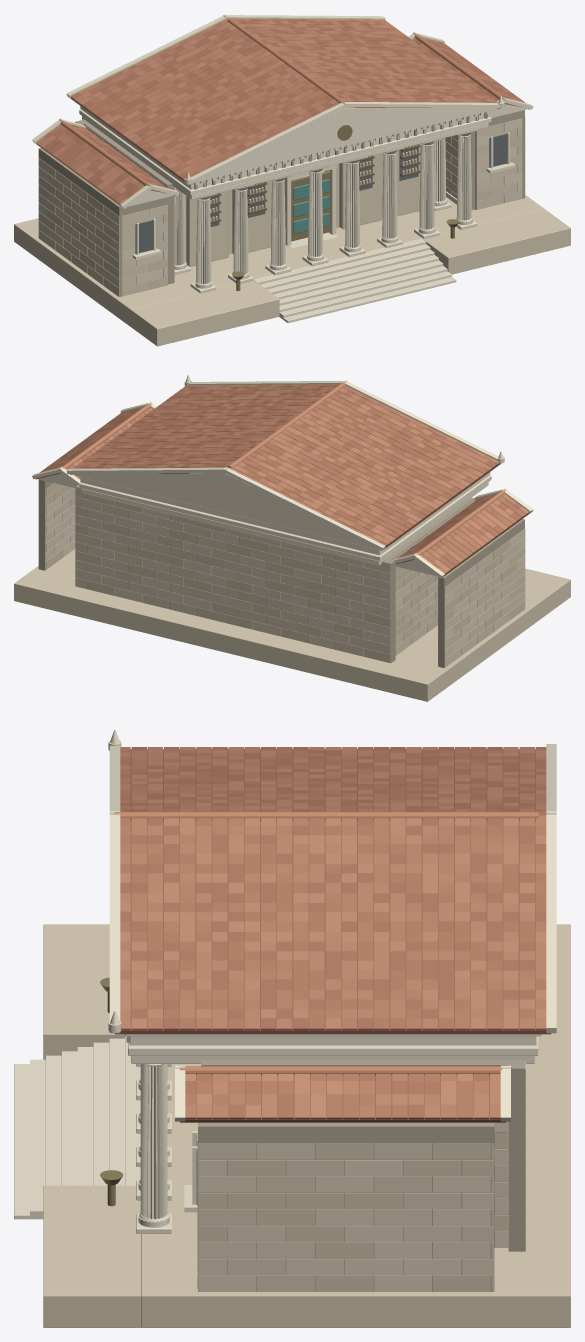
Rendered from library.glb.
3 views of the same model, one above another, from view 1: azimuth 30°, elevation 25°; view 2: azimuth 150°, elevation 25°; view 3: azimuth 270°, elevation 25° (orthographic). The views are drawn at different scales.
Parts seen in each view (by area): view 1: AlexandrianScholarlyComplex_Interpretation / cream marble, AlexandrianScholarlyComplex_Interpretation / warm limestone, AlexandrianScholarlyComplex_Interpretation / roof tile 1, AlexandrianScholarlyComplex_Interpretation / roof tile 0, AlexandrianScholarlyComplex_Interpretation / roof tile 3, AlexandrianScholarlyComplex_Interpretation / roof tile 2, AlexandrianScholarlyComplex_Interpretation / roof tile 4, AlexandrianScholarlyComplex_Interpretation / stone shadow, AlexandrianScholarlyComplex_Interpretation / masonry 2, AlexandrianScholarlyComplex_Interpretation / masonry 1, AlexandrianScholarlyComplex_Interpretation / masonry 3, AlexandrianScholarlyComplex_Interpretation / masonry 0 (+8 smaller); view 2: AlexandrianScholarlyComplex_Interpretation / warm limestone, AlexandrianScholarlyComplex_Interpretation / cream marble, AlexandrianScholarlyComplex_Interpretation / masonry 2, AlexandrianScholarlyComplex_Interpretation / masonry 0, AlexandrianScholarlyComplex_Interpretation / masonry 3, AlexandrianScholarlyComplex_Interpretation / roof tile 1, AlexandrianScholarlyComplex_Interpretation / roof tile 0, AlexandrianScholarlyComplex_Interpretation / roof tile 3, AlexandrianScholarlyComplex_Interpretation / roof tile 2, AlexandrianScholarlyComplex_Interpretation / roof tile 4, AlexandrianScholarlyComplex_Interpretation / masonry 1, AlexandrianScholarlyComplex_Interpretation / stone shadow (+2 smaller); view 3: AlexandrianScholarlyComplex_Interpretation / warm limestone, AlexandrianScholarlyComplex_Interpretation / cream marble, AlexandrianScholarlyComplex_Interpretation / roof tile 3, AlexandrianScholarlyComplex_Interpretation / roof tile 1, AlexandrianScholarlyComplex_Interpretation / roof tile 0, AlexandrianScholarlyComplex_Interpretation / roof tile 2, AlexandrianScholarlyComplex_Interpretation / roof tile 4, AlexandrianScholarlyComplex_Interpretation / stone shadow, AlexandrianScholarlyComplex_Interpretation / roof base, AlexandrianScholarlyComplex_Interpretation / masonry 0, AlexandrianScholarlyComplex_Interpretation / masonry 3, AlexandrianScholarlyComplex_Interpretation / masonry 1 (+2 smaller).
Part boxes in pixels (x1,y1,x2,y2): AlexandrianScholarlyComplex_Interpretation / cream marble: (32, 14, 533, 323); AlexandrianScholarlyComplex_Interpretation / warm limestone: (14, 144, 570, 346); AlexandrianScholarlyComplex_Interpretation / roof tile 1: (43, 18, 513, 202); AlexandrianScholarlyComplex_Interpretation / roof tile 0: (44, 18, 516, 199); AlexandrianScholarlyComplex_Interpretation / roof tile 3: (49, 18, 525, 194); AlexandrianScholarlyComplex_Interpretation / roof tile 2: (60, 18, 521, 196); AlexandrianScholarlyComplex_Interpretation / roof tile 4: (36, 18, 518, 204); AlexandrianScholarlyComplex_Interpretation / stone shadow: (38, 104, 524, 296); AlexandrianScholarlyComplex_Interpretation / masonry 2: (38, 126, 525, 287); AlexandrianScholarlyComplex_Interpretation / masonry 1: (38, 117, 525, 296); AlexandrianScholarlyComplex_Interpretation / masonry 3: (38, 118, 525, 283); AlexandrianScholarlyComplex_Interpretation / masonry 0: (38, 136, 525, 296); AlexandrianScholarlyComplex_Interpretation / warm limestone: (14, 549, 570, 701); AlexandrianScholarlyComplex_Interpretation / cream marble: (32, 375, 533, 578); AlexandrianScholarlyComplex_Interpretation / masonry 2: (45, 497, 525, 666); AlexandrianScholarlyComplex_Interpretation / masonry 0: (45, 483, 525, 663); AlexandrianScholarlyComplex_Interpretation / masonry 3: (46, 487, 525, 652); AlexandrianScholarlyComplex_Interpretation / roof tile 1: (44, 384, 525, 568); AlexandrianScholarlyComplex_Interpretation / roof tile 0: (57, 384, 521, 569); AlexandrianScholarlyComplex_Interpretation / roof tile 3: (39, 384, 515, 563); AlexandrianScholarlyComplex_Interpretation / roof tile 2: (48, 384, 517, 557); AlexandrianScholarlyComplex_Interpretation / roof tile 4: (55, 384, 528, 573); AlexandrianScholarlyComplex_Interpretation / masonry 1: (45, 485, 525, 667); AlexandrianScholarlyComplex_Interpretation / stone shadow: (38, 473, 524, 668); AlexandrianScholarlyComplex_Interpretation / warm limestone: (43, 924, 570, 1327); AlexandrianScholarlyComplex_Interpretation / cream marble: (14, 730, 556, 1233); AlexandrianScholarlyComplex_Interpretation / roof tile 3: (120, 747, 546, 1119); AlexandrianScholarlyComplex_Interpretation / roof tile 1: (120, 747, 546, 1119); AlexandrianScholarlyComplex_Interpretation / roof tile 0: (120, 747, 546, 1119); AlexandrianScholarlyComplex_Interpretation / roof tile 2: (120, 750, 546, 1119); AlexandrianScholarlyComplex_Interpretation / roof tile 4: (120, 747, 546, 1119); AlexandrianScholarlyComplex_Interpretation / stone shadow: (126, 1036, 525, 1291); AlexandrianScholarlyComplex_Interpretation / roof base: (115, 749, 551, 1122); AlexandrianScholarlyComplex_Interpretation / masonry 0: (197, 1062, 525, 1291); AlexandrianScholarlyComplex_Interpretation / masonry 3: (197, 1121, 508, 1291); AlexandrianScholarlyComplex_Interpretation / masonry 1: (197, 1122, 525, 1291).
Size of the model in its own units: 27 by 11.23 by 17.1.
